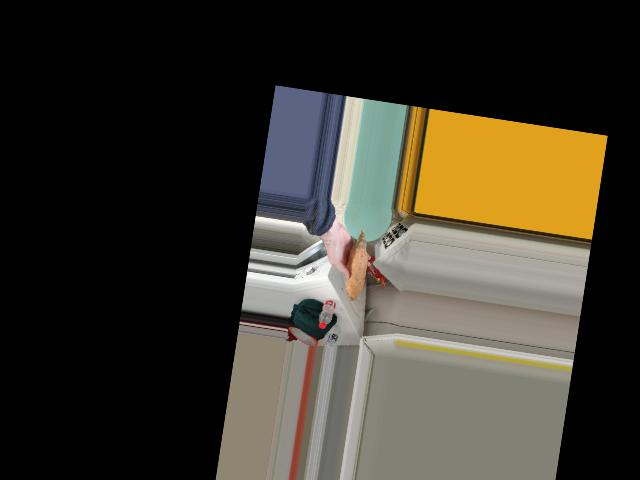sweet_potato: (344, 238, 367, 292)
